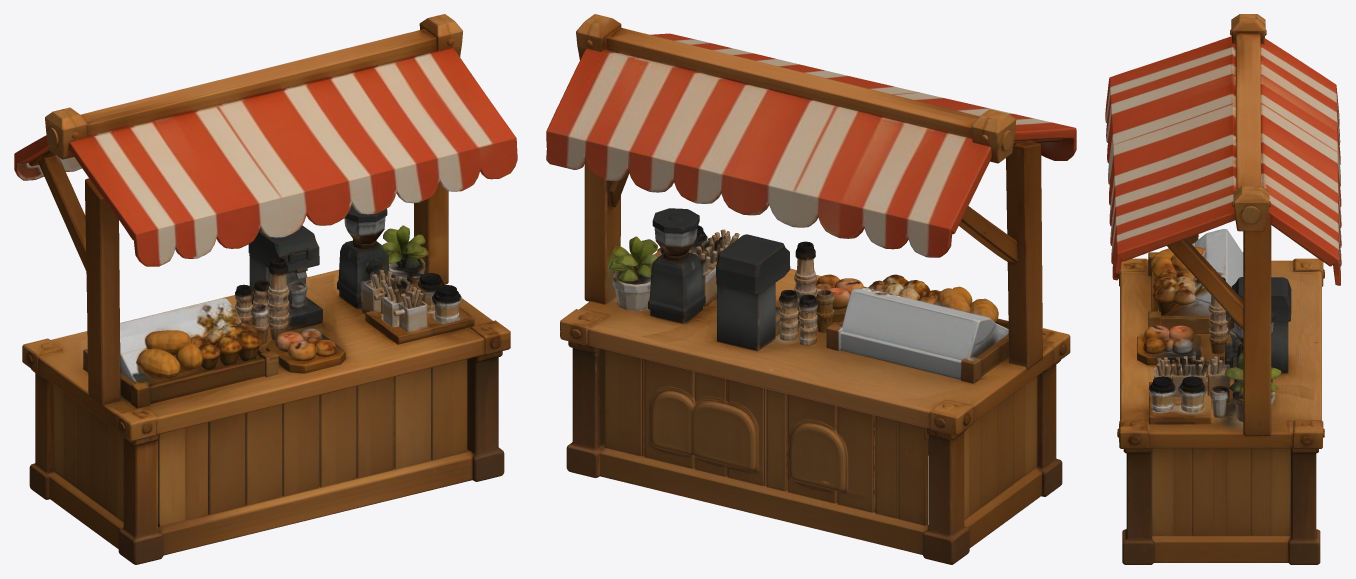
File: stall.glb
3 views of the same model, side by side, from view 1: azimuth 30°, elevation 25°; view 2: azimuth 150°, elevation 25°; view 3: azimuth 270°, elevation 25° (orthographic). The views are drawn at different scales.
Visible parts, largest first — view 1: material; view 2: material; view 3: material.
Part boxes in pixels (x1=…): material: x1=14, y1=14, x2=517, y2=564; material: x1=546, y1=14, x2=1076, y2=564; material: x1=1105, y1=14, x2=1341, y2=564.
Size of the model in its own units: 0.8586 by 0.8197 by 0.4637.
1 material, 1 textured.
